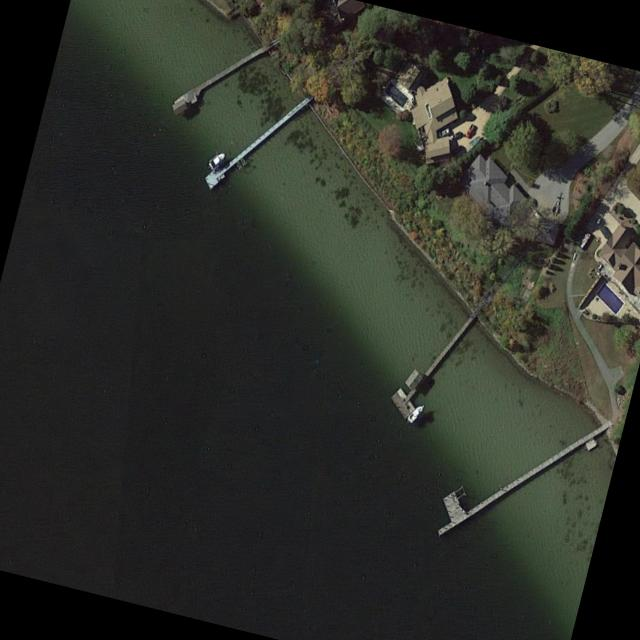ship: (406, 400, 426, 425), (207, 147, 227, 169)
small-vehicle: (463, 121, 477, 139), (448, 128, 463, 142), (436, 125, 451, 136)
